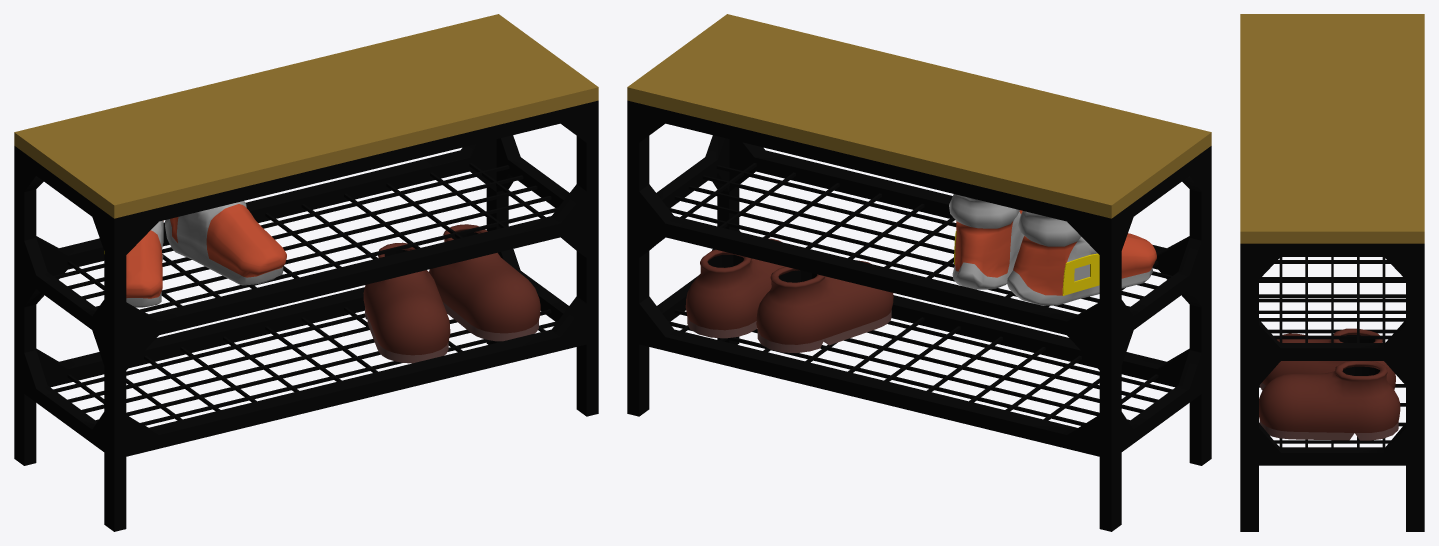
File: sapateira_export.fbx
The picture shows the model from 3 angles, left to right: view 1: azimuth 30°, elevation 25°; view 2: azimuth 150°, elevation 25°; view 3: azimuth 270°, elevation 25°; orthographic projection. The views are drawn at different scales.
Visible parts, largest first — view 1: polySurface6; view 2: polySurface6; view 3: polySurface6.
Boxes of the visible parts, x1,y1,x2,y2 form: polySurface6: [14, 14, 598, 531]; polySurface6: [627, 14, 1211, 531]; polySurface6: [1240, 14, 1424, 531].
Bounding box in the file's own units: 17.86 × 11.5 × 6.39.
